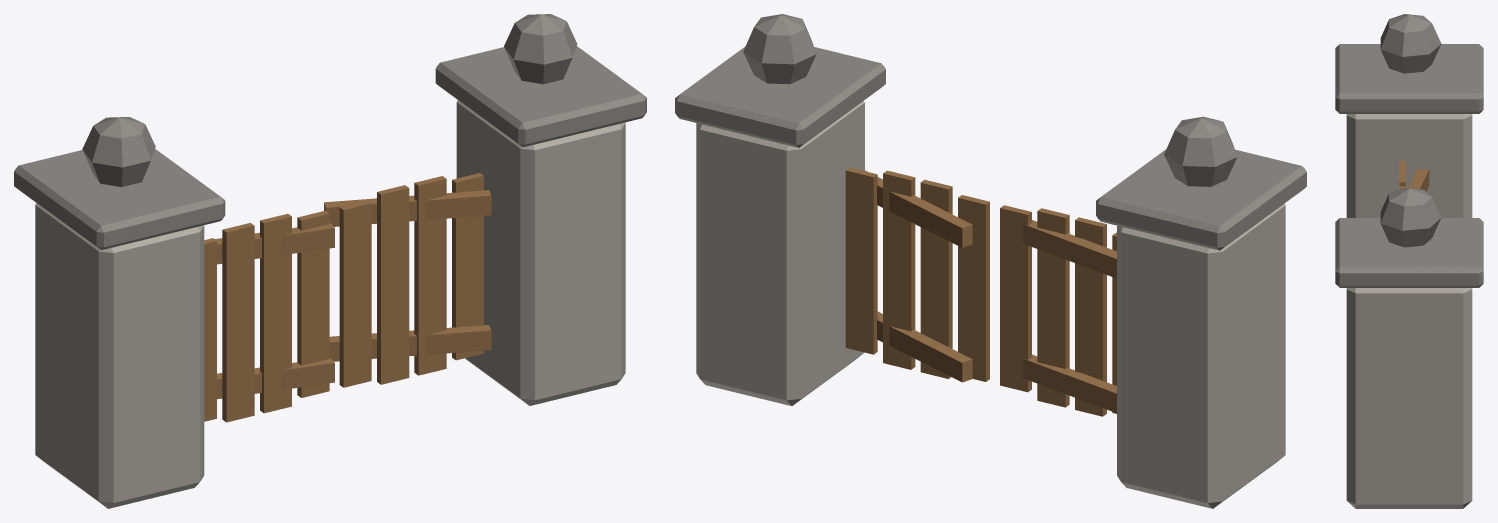
The model's file is garden_gate.glb.
The picture shows the model from 3 angles, left to right: view 1: azimuth 30°, elevation 25°; view 2: azimuth 150°, elevation 25°; view 3: azimuth 270°, elevation 25°; orthographic projection. The views are drawn at different scales.
Visible parts, largest first — view 1: garden_gate; view 2: garden_gate; view 3: garden_gate.
Boxes of the visible parts, x1,y1,x2,y2 form: garden_gate: [14, 14, 646, 508]; garden_gate: [675, 14, 1306, 508]; garden_gate: [1335, 14, 1483, 508].
Bounding box in the file's own units: 2.35 × 1.46 × 0.65.
